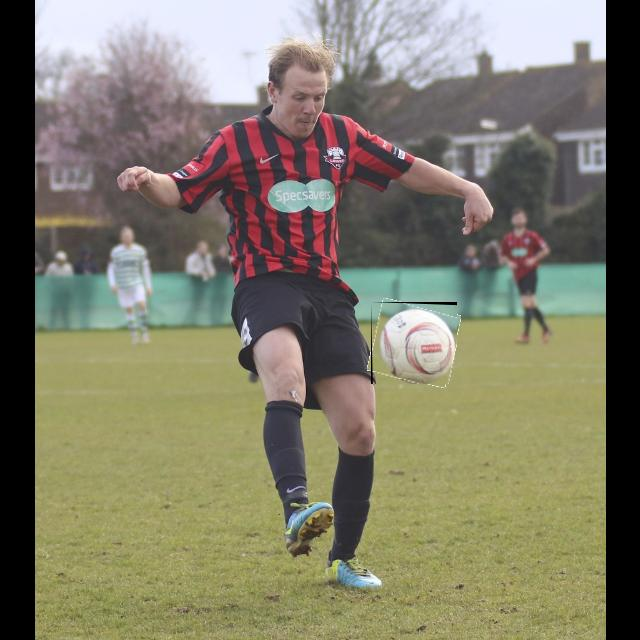Football: (371, 302, 457, 384)
